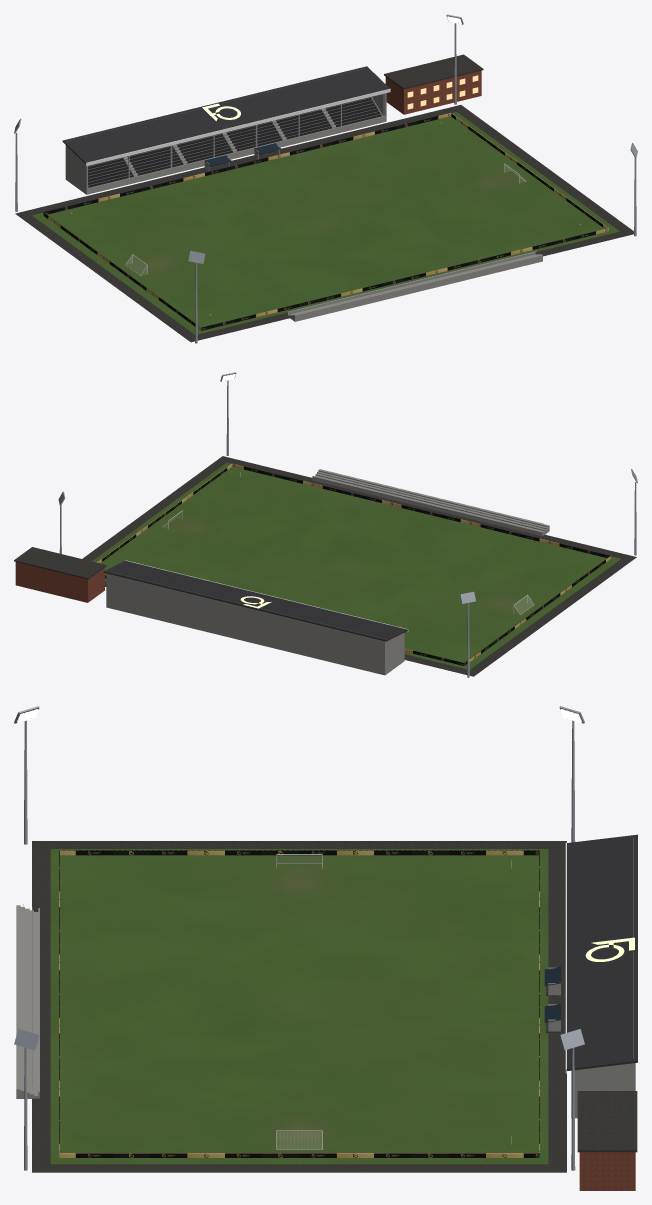
Rendered from terrain_L2.glb.
3 renders of one model, top to bottom at view 1: azimuth 30°, elevation 25°; view 2: azimuth 150°, elevation 25°; view 3: azimuth 270°, elevation 25°, orthographic. The views are drawn at different scales.
Parts seen in each view (by area): view 1: pitch_L2_L2, concrete_dark_L2, roof_L2, concrete_L2, seats_L2, boards_L2, brick_L2, steel_L2, white_L2, emissive_windows_L2; view 2: pitch_L2_L2, concrete_L2, concrete_dark_L2, roof_L2, boards_L2, brick_L2, steel_L2, white_L2; view 3: pitch_L2_L2, concrete_dark_L2, roof_L2, concrete_L2, boards_L2, steel_L2, brick_L2, net_L2, white_L2.
Boxes of the visible parts, x1,y1,x2,y2 form: pitch_L2_L2: [32, 112, 619, 334]; concrete_dark_L2: [15, 54, 633, 342]; roof_L2: [62, 66, 389, 163]; concrete_L2: [65, 68, 542, 321]; seats_L2: [88, 97, 381, 187]; boards_L2: [43, 113, 608, 330]; brick_L2: [385, 70, 481, 114]; steel_L2: [14, 14, 637, 343]; white_L2: [86, 88, 526, 275]; emissive_windows_L2: [407, 75, 478, 109]; pitch_L2_L2: [92, 462, 620, 669]; concrete_L2: [106, 469, 549, 675]; concrete_dark_L2: [14, 456, 636, 676]; roof_L2: [103, 561, 407, 641]; boards_L2: [97, 463, 610, 665]; brick_L2: [15, 562, 104, 602]; steel_L2: [58, 372, 637, 677]; white_L2: [125, 472, 534, 632]; pitch_L2_L2: [50, 849, 548, 1164]; concrete_dark_L2: [32, 841, 637, 1172]; roof_L2: [567, 834, 637, 1070]; concrete_L2: [16, 838, 635, 1118]; boards_L2: [59, 850, 539, 1157]; steel_L2: [14, 706, 584, 1170]; brick_L2: [579, 1152, 635, 1190]; net_L2: [277, 855, 321, 1149]; white_L2: [276, 842, 566, 1149].
Bounding box in the file's own units: 134 × 24.2 × 100.
Materials: 15 (8 with a texture image).
